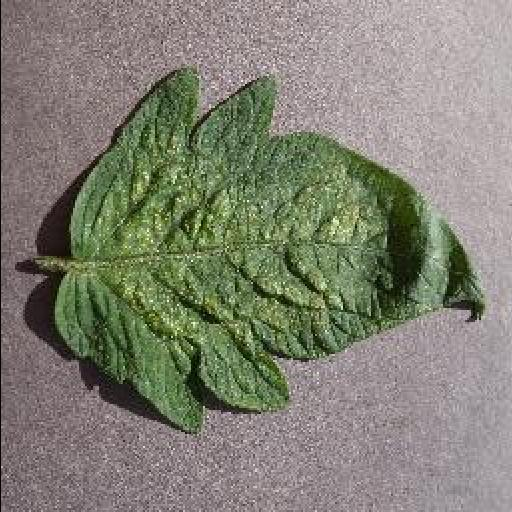disease_tomato: (54, 64, 484, 432)
